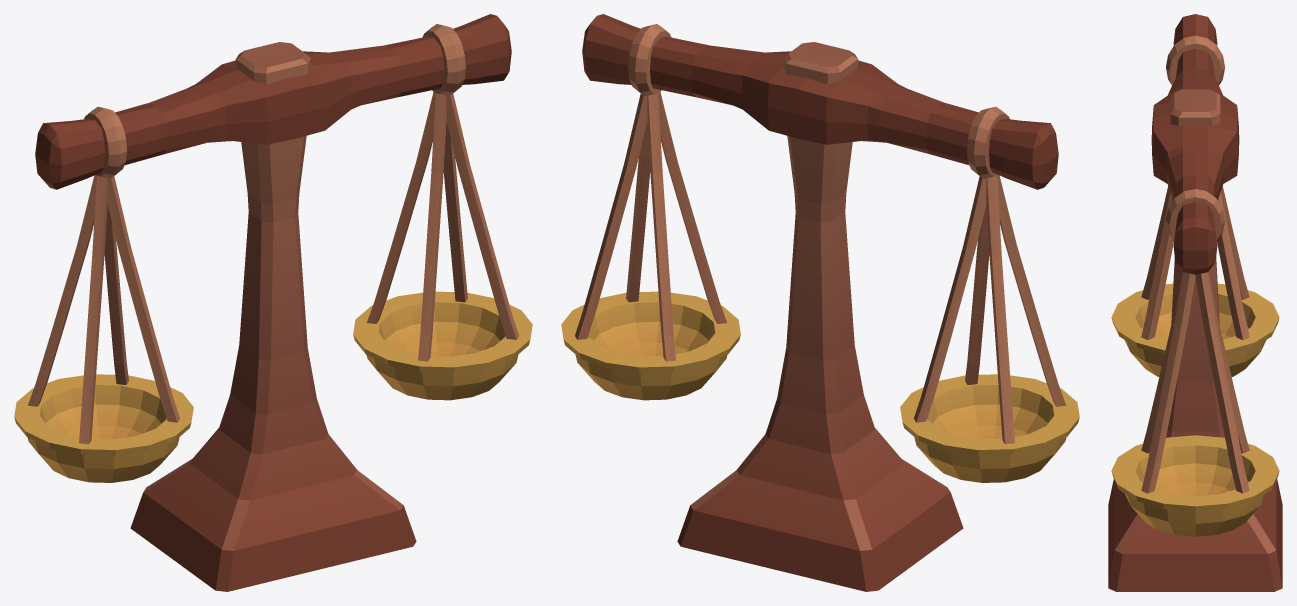
The model's file is scales.glb.
The picture shows the model from 3 angles, left to right: view 1: azimuth 30°, elevation 25°; view 2: azimuth 150°, elevation 25°; view 3: azimuth 270°, elevation 25°; orthographic projection. The views are drawn at different scales.
Visible parts, largest first — view 1: Scales_8-col; view 2: Scales_8-col; view 3: Scales_8-col.
Part boxes in pixels (box(x1,y1,x2,y2)): Scales_8-col: box(14, 14, 532, 591); Scales_8-col: box(561, 14, 1079, 591); Scales_8-col: box(1108, 14, 1282, 591).
Size of the model in its own units: 0.5102 by 0.4723 by 0.1673.
Materials: 1 (1 with a texture image).
